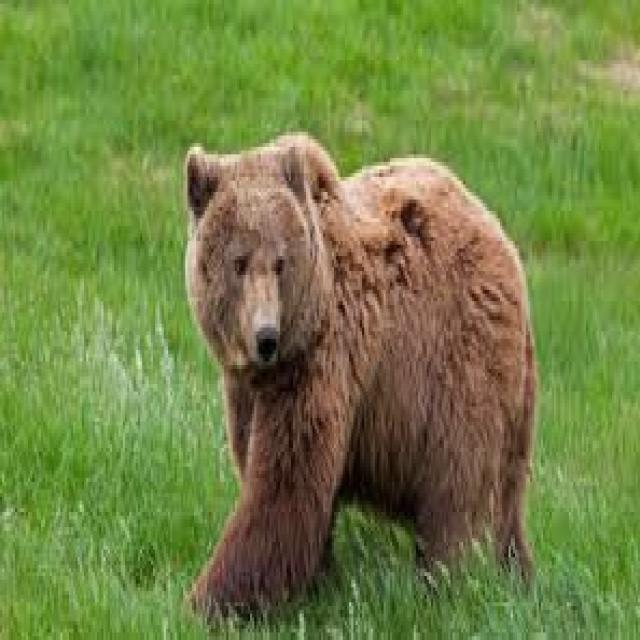bear: (185, 132, 534, 614)
